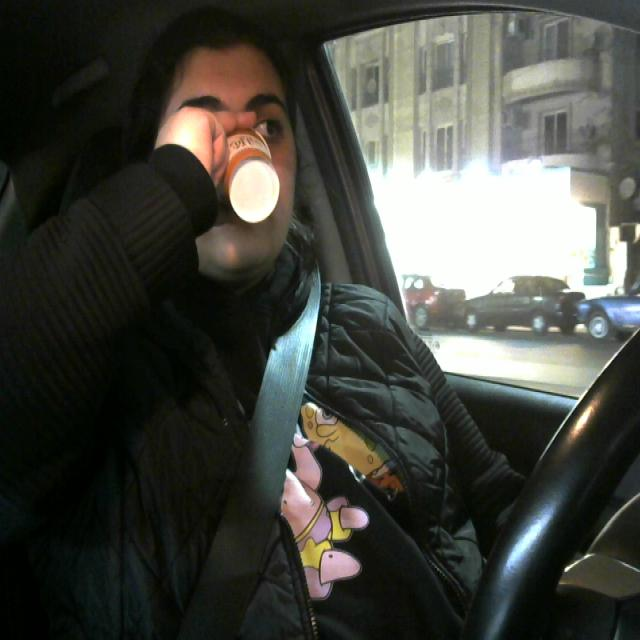drinking: (210, 116, 290, 237)
